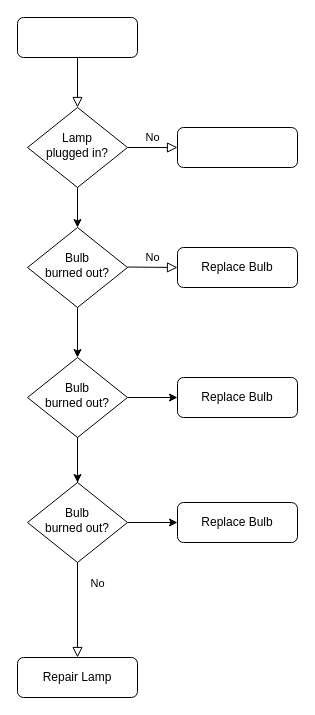
The diagram is 315 pixels wide and 715 high, and some of its shapes have lost their labels. The box of each missing label's shape, as (x1, y1, x2, y2) in pixels:
Inicio: (16, 16, 138, 58)
Plug in lamp: (176, 126, 298, 168)
